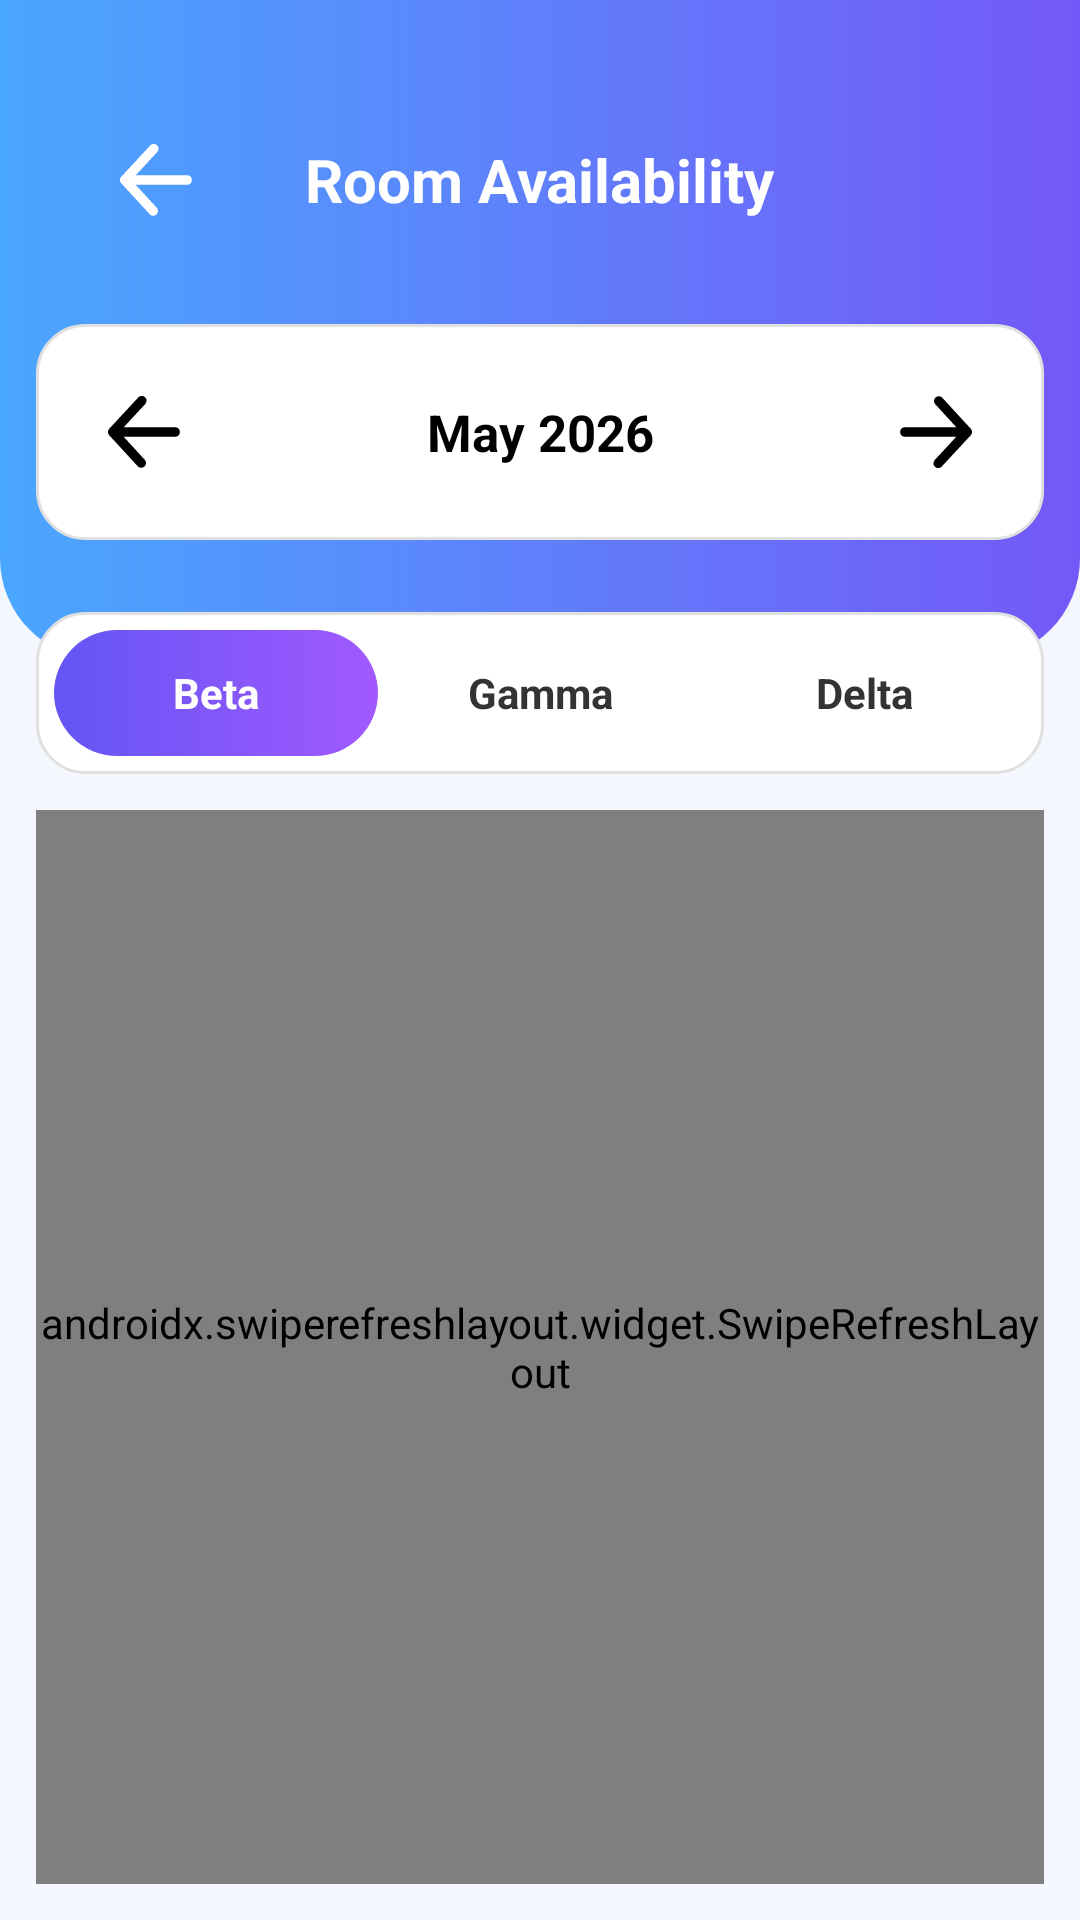

Icon click points for this 1080w x 1920h phone screenshot, format [x,y]:
Back: [156,180]
Previous month: [144,432]
